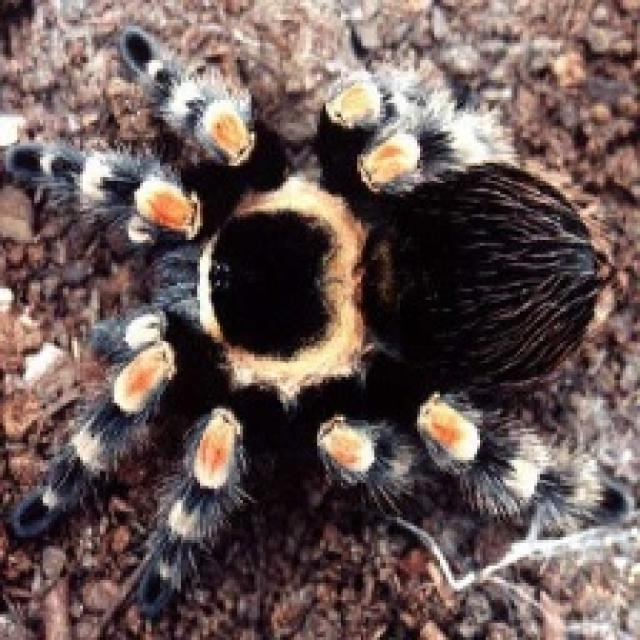Non venomous spider: (34, 9, 580, 594)
